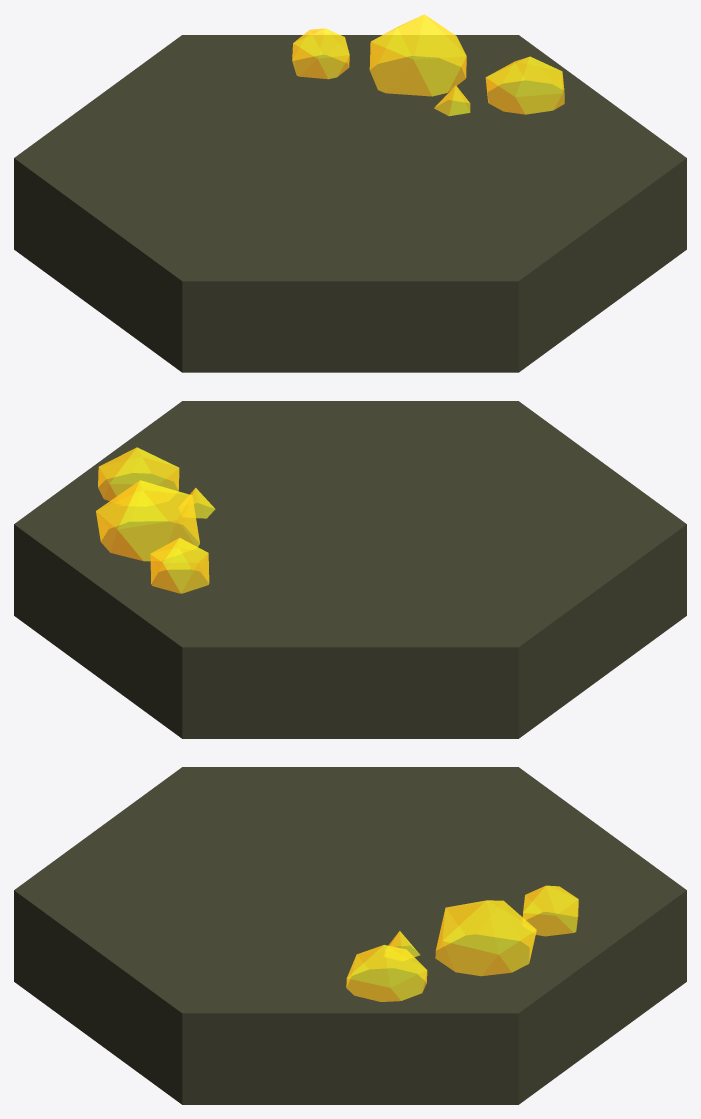
Rendered from GroundUnit(8).fbx.
The picture shows the model from 3 angles, top to bottom: view 1: azimuth 30°, elevation 25°; view 2: azimuth 150°, elevation 25°; view 3: azimuth 270°, elevation 25°; orthographic projection.
Visible parts, largest first — view 1: GroundUnit2.3; view 2: GroundUnit2.3; view 3: GroundUnit2.3.
Boxes of the visible parts, x1,y1,x2,y2 form: GroundUnit2.3: [14, 14, 686, 372]; GroundUnit2.3: [14, 401, 686, 738]; GroundUnit2.3: [14, 767, 686, 1104].
Size of the model in its own units: 173 by 49.43 by 200.
